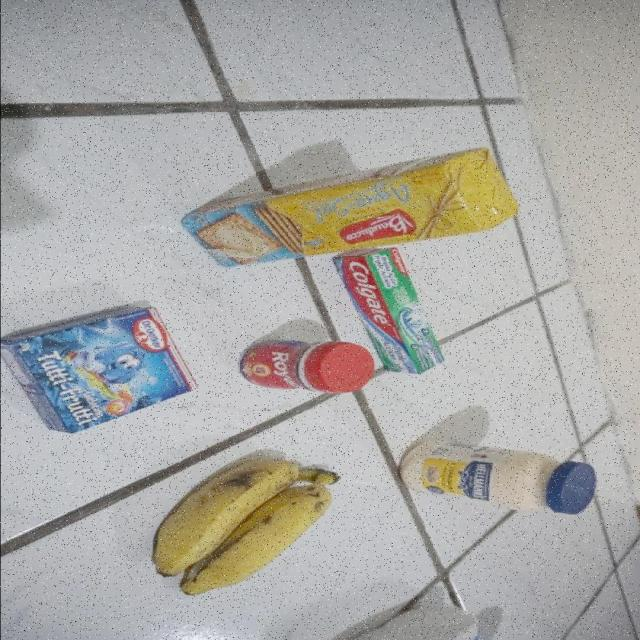Banana: (151, 459, 340, 597)
Cracker: (182, 148, 519, 269)
Gelatine: (0, 305, 197, 434)
Mayonnaise: (397, 442, 597, 516)
Toothpaste: (329, 248, 444, 375)
Yeast: (238, 339, 374, 394)
